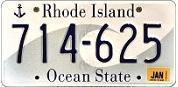placa de veiculo: (7, 0, 173, 84)
